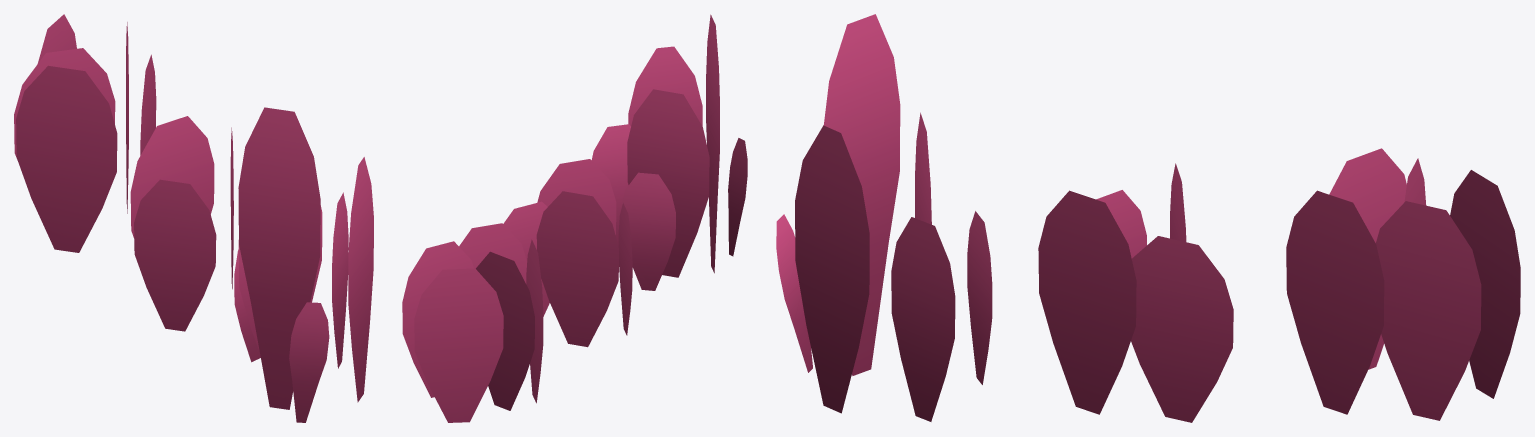
File: Gramas.fbx
3 views of the same model, side by side, from view 1: azimuth 30°, elevation 25°; view 2: azimuth 150°, elevation 25°; view 3: azimuth 270°, elevation 25° (orthographic). The views are drawn at different scales.
Parts seen in each view (by area): view 1: Plane.003, Plane.001, Plane.002; view 2: Plane.003, Plane.001, Plane.002; view 3: Plane.001, Plane.003, Plane.002.
Part boxes in pixels (box(x1,y1,x2,y2)): Plane.003: box(234, 107, 373, 422); Plane.001: box(14, 14, 156, 252); Plane.002: box(130, 116, 233, 331); Plane.003: box(591, 14, 747, 290); Plane.001: box(402, 223, 543, 422); Plane.002: box(503, 159, 632, 347); Plane.001: box(1286, 148, 1520, 420); Plane.003: box(776, 14, 992, 421); Plane.002: box(1038, 163, 1233, 422).
Bounding box in the file's own units: 41.68 × 85.63 × 163.
Materials: 3 (3 with a texture image).
